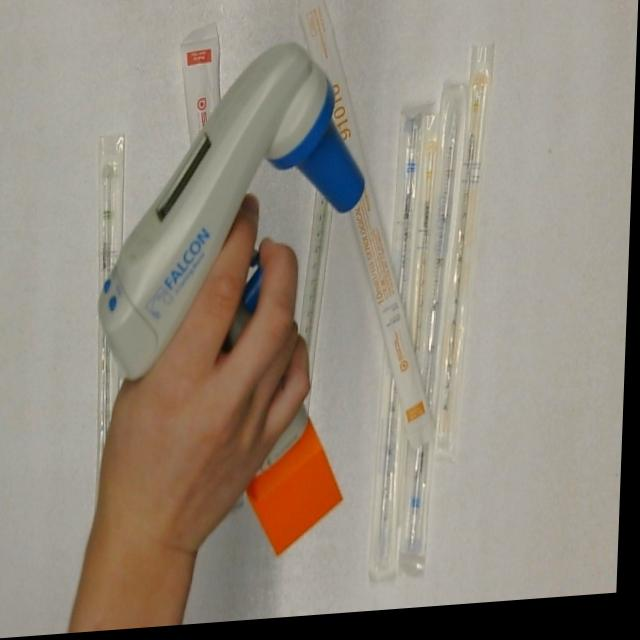Pipette Controller: (93, 43, 375, 574)
Serelogical Pipet 1 mL - Sealed: (436, 47, 500, 466), (408, 116, 455, 367)
Serelogical Pipet 10 mL - Sealed: (283, 0, 454, 460)
Serelogical Pipet 2 mL - Sealed: (89, 130, 131, 507)
Serelogical Pipet 25 mL - Sealed: (177, 24, 227, 146)
Serelogical Pipet 5 mL - Sealed: (404, 87, 474, 566), (371, 99, 436, 589)
